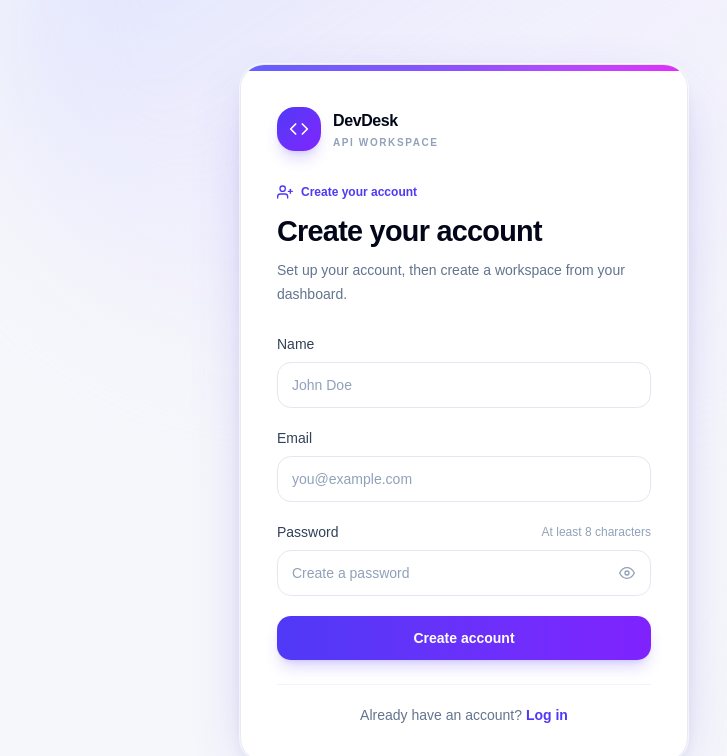
Signup validation › shows invalid-email and short-password errors
This screenshot has width=727, height=756.
Step 1. Type "QA Tester" into the field labelled "Name" → (464, 385), box [277,362,651,408]
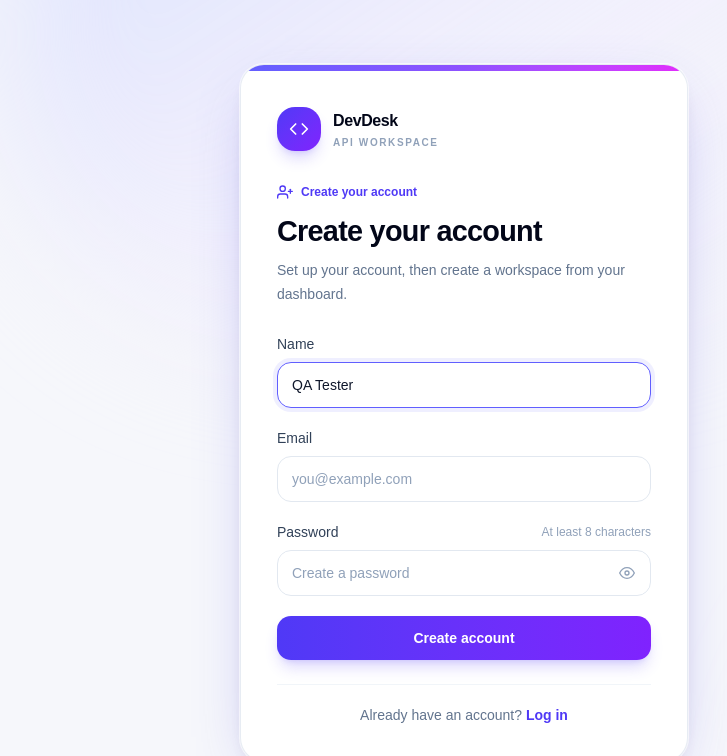
Step 2. Type "bad-email" into the field labelled "Email" → (464, 479), box [277,456,651,502]
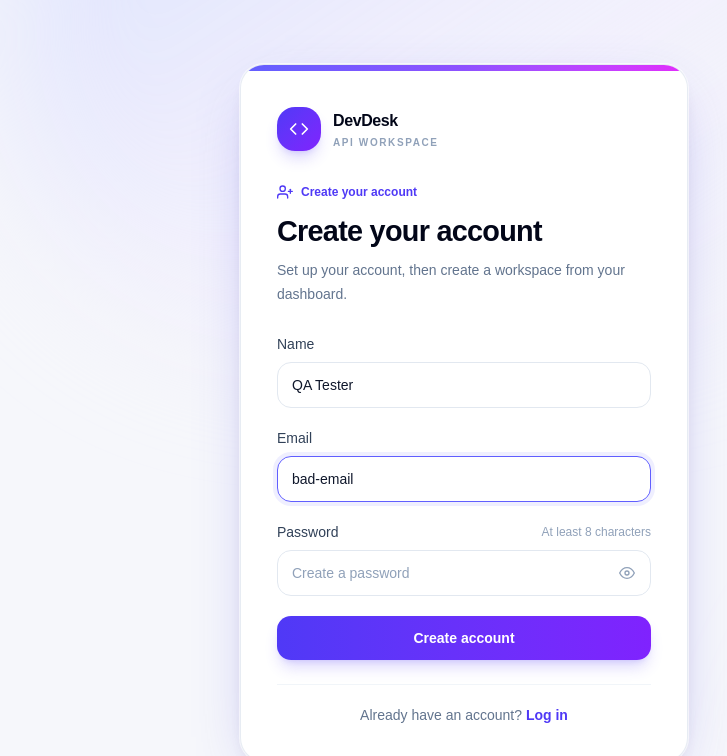
Step 3. Type "1234567" into the password field labelled "Password" → (464, 573), box [277,550,651,596]
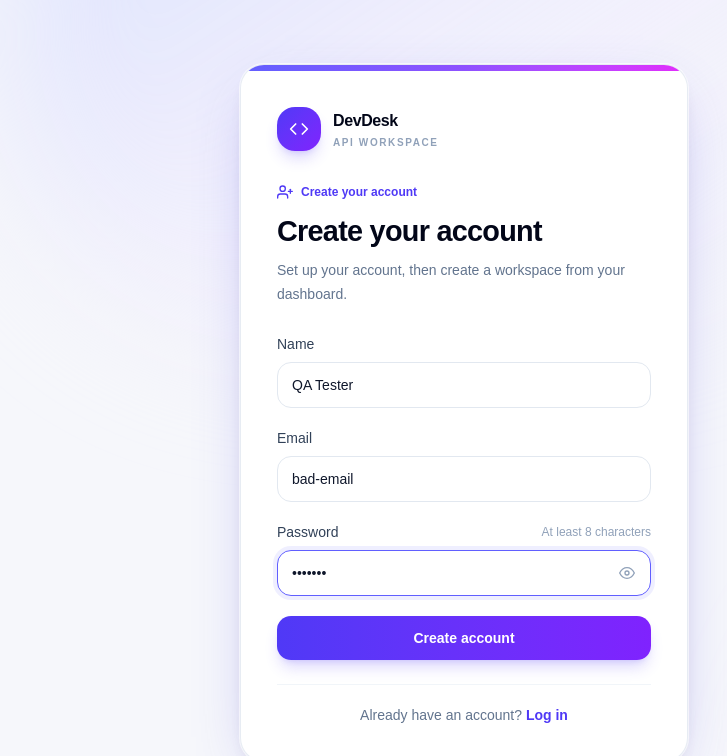
Step 4. Click the button "Create account" → click(464, 638), box [277,616,651,660]
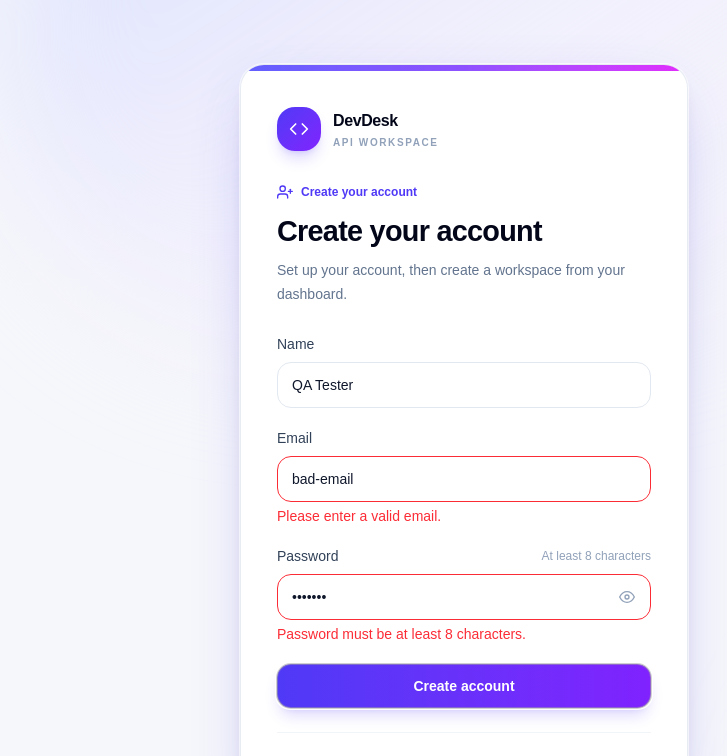
Expected: the text "Please enter a valid email." is shown, [277,508,441,524]
Expected: the text "Password must be at least 8 characters." is shown, [277,626,526,642]
